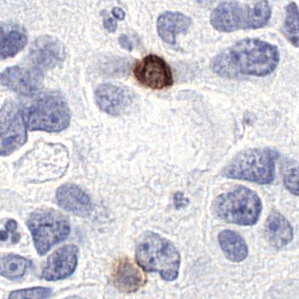Lymphocyte: (133, 54, 174, 89)
